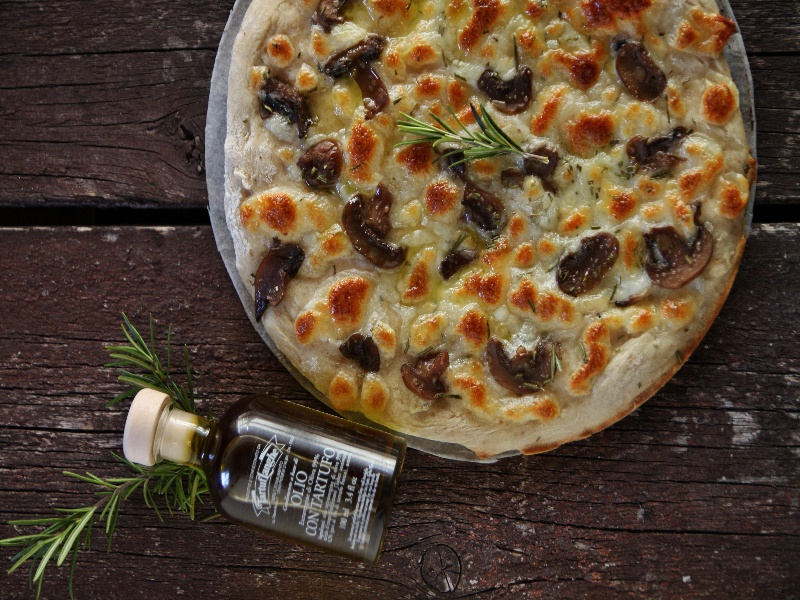champignon: (314, 38, 417, 119), (337, 183, 424, 277), (475, 330, 569, 402), (631, 223, 719, 293), (542, 234, 624, 300)
